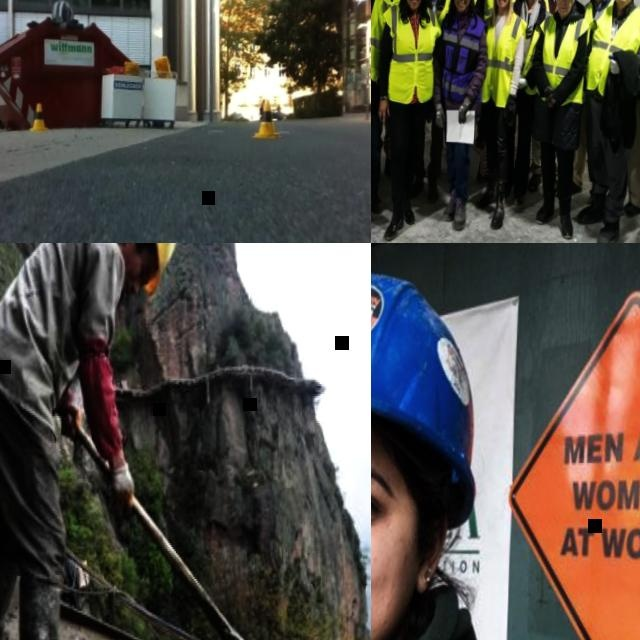Hardhat: (371, 267, 488, 528), (123, 243, 179, 293)
NO-Mask: (122, 268, 136, 298), (454, 0, 470, 12), (556, 3, 570, 16), (406, 0, 421, 9), (495, 0, 508, 8), (613, 0, 631, 5)
NO-Safety Vest: (0, 243, 110, 415)
Person: (371, 262, 601, 640), (0, 243, 167, 640), (372, 0, 444, 242), (523, 0, 592, 240), (573, 0, 640, 243), (425, 0, 492, 231), (474, 0, 528, 231), (465, 0, 526, 176), (504, 0, 550, 212), (409, 0, 456, 202), (568, 0, 614, 192), (528, 0, 569, 194), (371, 0, 408, 179), (433, 0, 468, 177), (371, 0, 395, 217), (621, 0, 640, 234)
Safety Cone: (253, 101, 283, 139), (30, 103, 49, 132)
Safety Vest: (379, 1, 444, 105), (585, 1, 640, 100), (535, 12, 590, 109), (481, 12, 528, 110), (438, 11, 487, 103), (520, 7, 552, 97), (371, 0, 393, 86), (582, 0, 614, 44), (474, 0, 521, 18), (423, 0, 450, 23), (442, 0, 482, 7), (540, 0, 557, 15)
